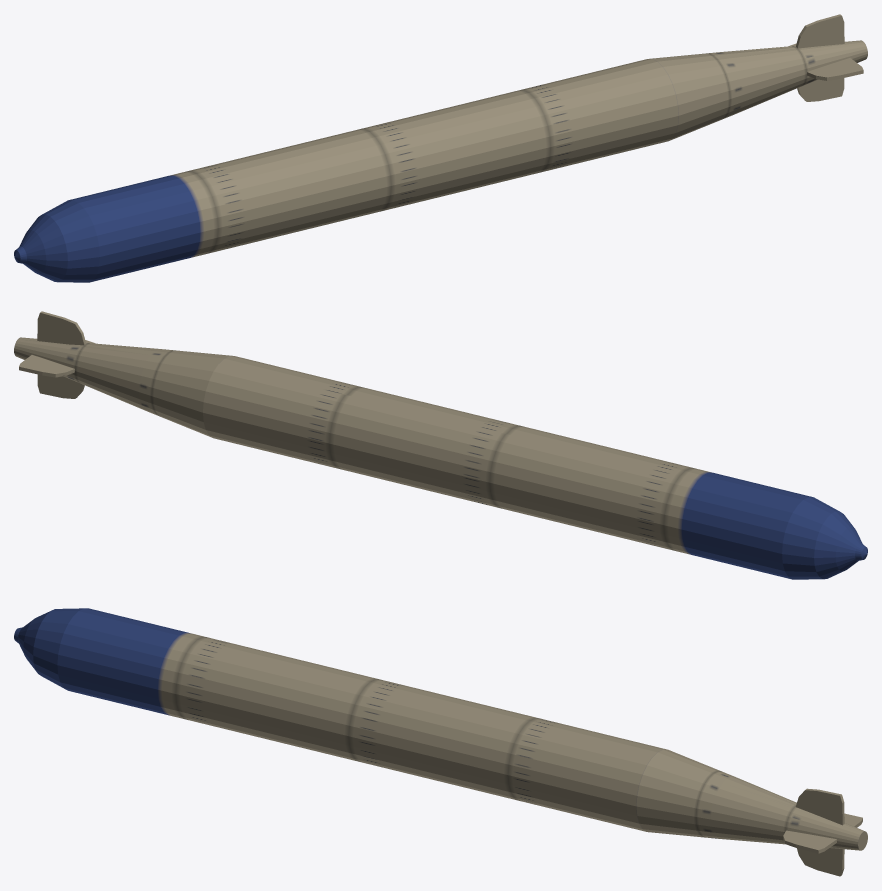
File: torpedo.obj
3 renders of one model, top to bottom at view 1: azimuth 30°, elevation 25°; view 2: azimuth 150°, elevation 25°; view 3: azimuth 330°, elevation 25°, orthographic.
Parts seen in each view (by area): view 1: Cylinder_Cylinder.002; view 2: Cylinder_Cylinder.002; view 3: Cylinder_Cylinder.002.
Part boxes in pixels (box(x1,y1,x2,y2)): Cylinder_Cylinder.002: box(14, 14, 867, 282); Cylinder_Cylinder.002: box(14, 311, 867, 579); Cylinder_Cylinder.002: box(14, 608, 867, 876).
Bounding box in the file's own units: 6.11 × 0.5552 × 0.5552.
Materials: 1 (1 with a texture image).
